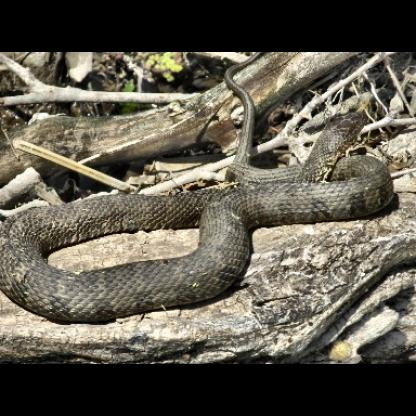Snake: (0, 98, 413, 322)
